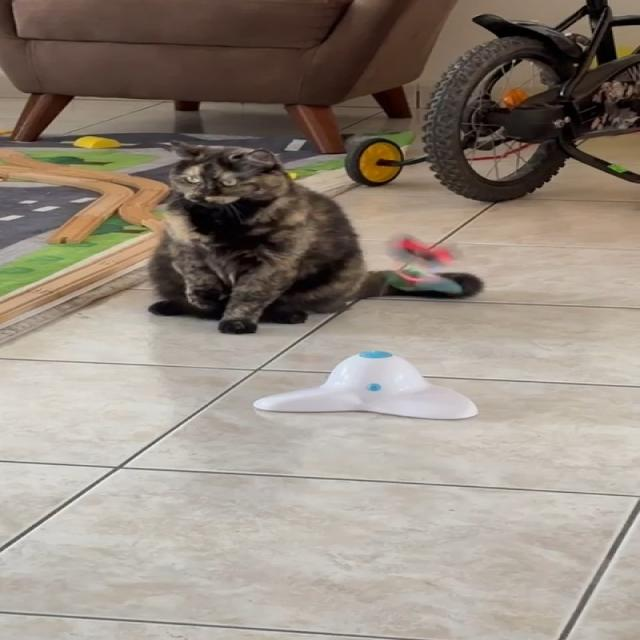authorized: (146, 140, 482, 334)
